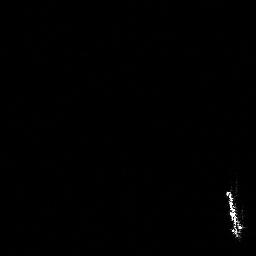ship: (222, 188, 248, 241)
